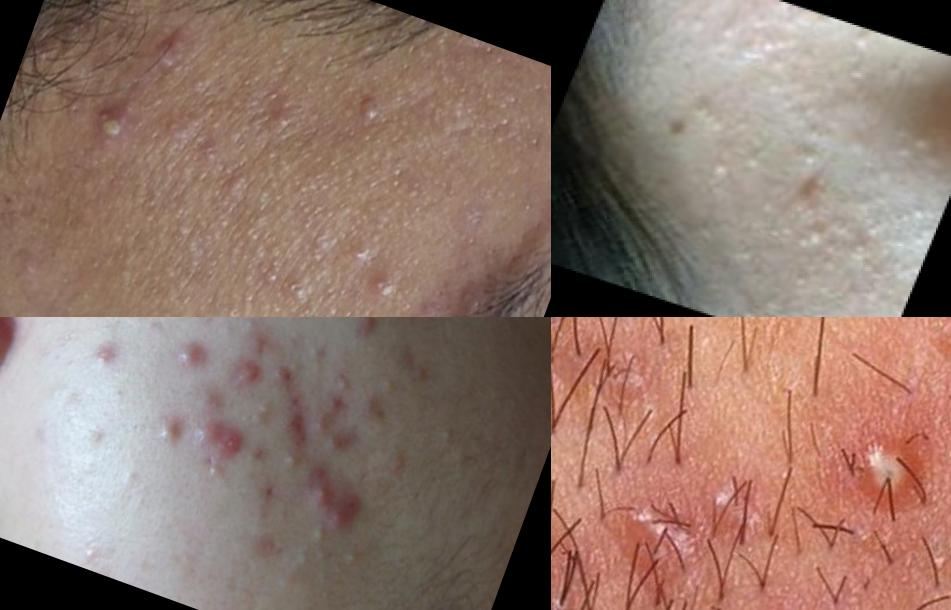folliculitis: (835, 421, 949, 528)
papular: (179, 402, 260, 470), (770, 161, 846, 230), (157, 328, 219, 390), (297, 464, 353, 525), (220, 352, 278, 405), (82, 332, 135, 381), (319, 492, 364, 548), (265, 352, 311, 395), (145, 404, 183, 451), (241, 329, 282, 371), (341, 318, 393, 348), (323, 428, 360, 464), (317, 385, 353, 421)
purulent: (86, 96, 147, 162), (137, 26, 198, 87), (333, 221, 392, 281), (356, 260, 416, 312)
whitehead: (698, 1, 832, 84), (828, 27, 925, 104), (242, 75, 319, 160), (872, 115, 951, 190), (724, 274, 827, 318), (682, 74, 738, 130), (692, 150, 750, 198), (265, 422, 317, 475), (225, 159, 270, 213), (348, 79, 394, 129), (240, 389, 284, 434), (282, 266, 326, 310), (377, 440, 417, 483), (254, 243, 289, 290), (326, 355, 361, 399), (434, 416, 469, 460), (70, 533, 108, 571), (336, 541, 371, 577), (80, 422, 115, 457), (302, 516, 337, 551), (303, 339, 335, 372), (368, 364, 398, 397), (202, 453, 231, 487), (86, 546, 112, 573), (117, 463, 144, 488), (214, 318, 242, 342), (235, 318, 265, 340), (108, 384, 133, 409)
